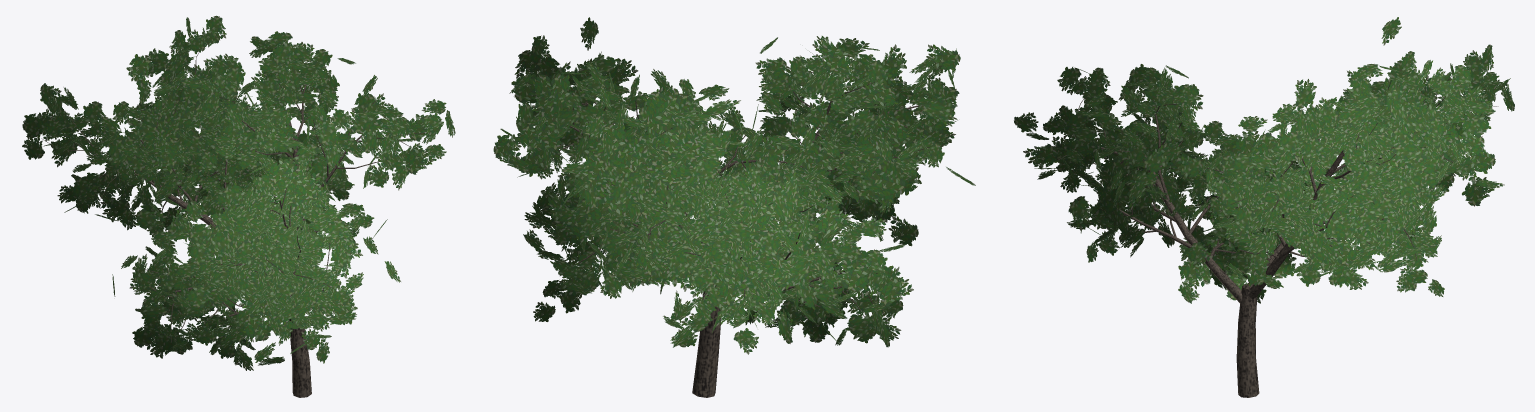
The model's file is HO2_HolmOak_Medium_6m.glb.
The picture shows the model from 3 angles, left to right: view 1: azimuth 30°, elevation 25°; view 2: azimuth 150°, elevation 25°; view 3: azimuth 270°, elevation 25°; orthographic projection. The views are drawn at different scales.
Visible parts, largest first — view 1: HO2_leaves, HO2_wood; view 2: HO2_leaves, HO2_wood; view 3: HO2_leaves, HO2_wood.
Part boxes in pixels (x1,y1,x2,y2): HO2_leaves: (22, 15, 455, 370); HO2_wood: (41, 52, 426, 397); HO2_leaves: (493, 17, 975, 354); HO2_wood: (538, 71, 936, 397); HO2_leaves: (1014, 17, 1514, 303); HO2_wood: (1058, 76, 1498, 397).
Bounding box in the file's own units: 6.82 × 6.02 × 8.35.
Materials: 2 (2 with a texture image).
